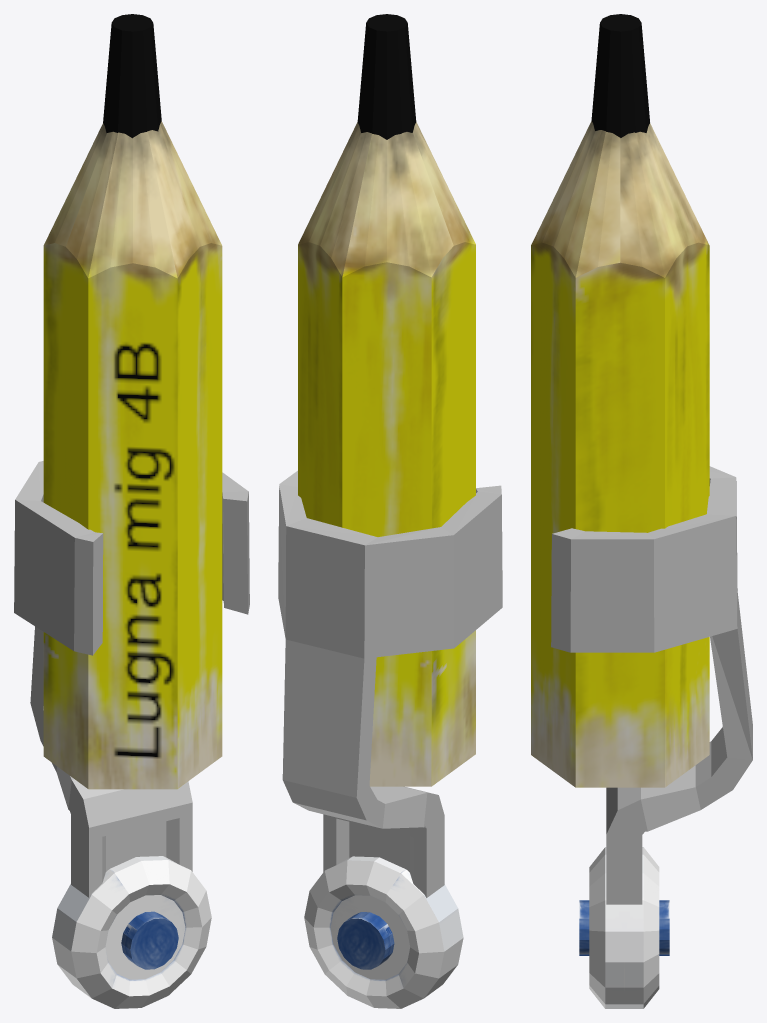
The model's file is pen.obj.
3 views of the same model, side by side, from view 1: azimuth 30°, elevation 25°; view 2: azimuth 150°, elevation 25°; view 3: azimuth 270°, elevation 25° (orthographic).
Visible parts, largest first — view 1: Cylinder, Cube_Cube.001, Cylinder.001_Cylinder.006, Cylinder.002_Cylinder.001; view 2: Cylinder, Cube_Cube.001, Cylinder.001_Cylinder.006, Cylinder.002_Cylinder.001; view 3: Cylinder, Cube_Cube.001, Cylinder.001_Cylinder.006, Cylinder.002_Cylinder.001.
Boxes of the visible parts, x1,y1,x2,y2 form: Cylinder: (43,121,222,789); Cube_Cube.001: (14,461,249,897); Cylinder.001_Cylinder.006: (52,856,211,1008); Cylinder.002_Cylinder.001: (103,14,161,138); Cylinder: (298,122,475,786); Cube_Cube.001: (278,470,502,897); Cylinder.001_Cylinder.006: (304,856,463,1008); Cylinder.002_Cylinder.001: (357,14,416,139); Cylinder: (531,121,709,787); Cube_Cube.001: (551,466,752,904); Cylinder.001_Cylinder.006: (579,847,669,1008); Cylinder.002_Cylinder.001: (591,14,649,137).
Bounding box in the file's own units: 0.2635 × 1.33 × 0.2738.
